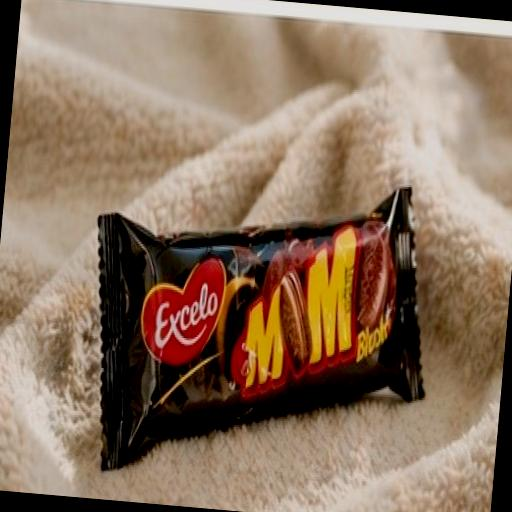MOMO: (36, 110, 454, 494)
